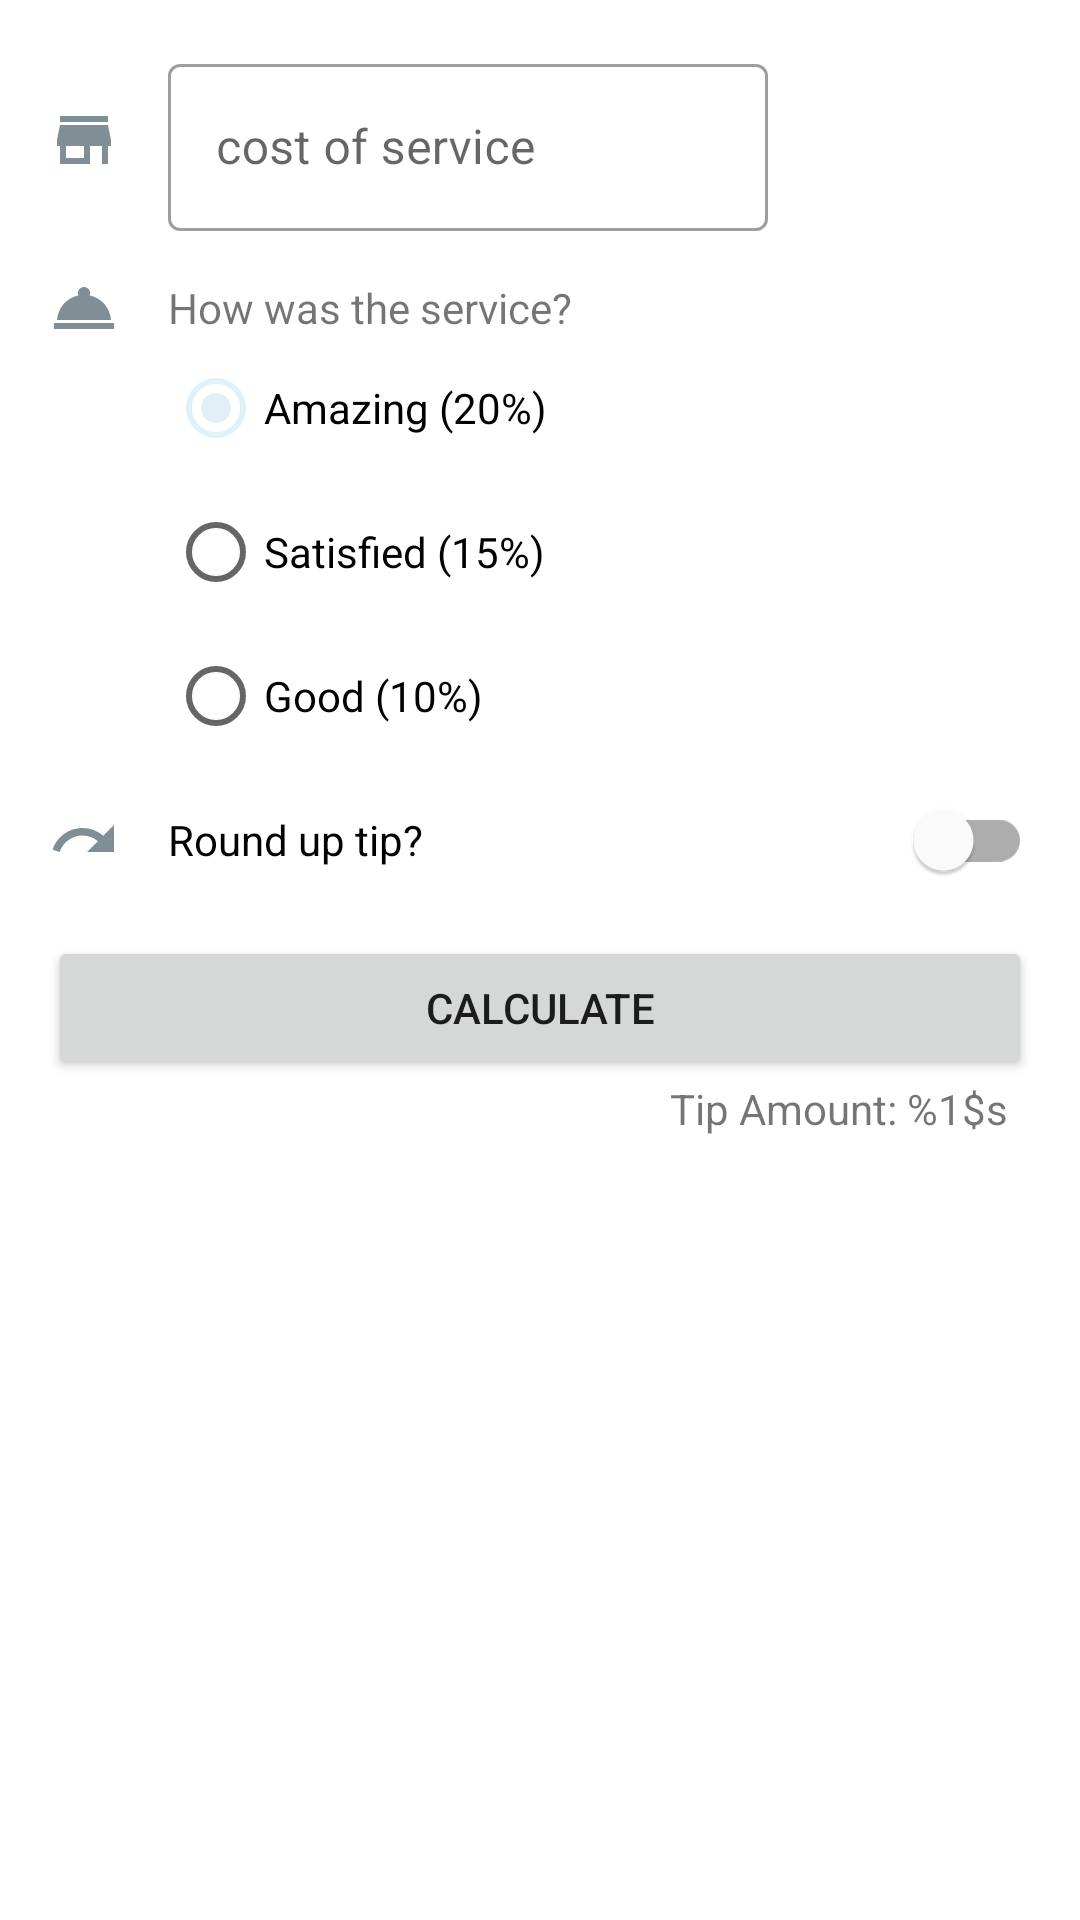

Locate icon controls on the screen. Image size 1080×1920, boxes as Rect(x1, y1, x2, y2).
store: Rect(57, 116, 111, 164)
